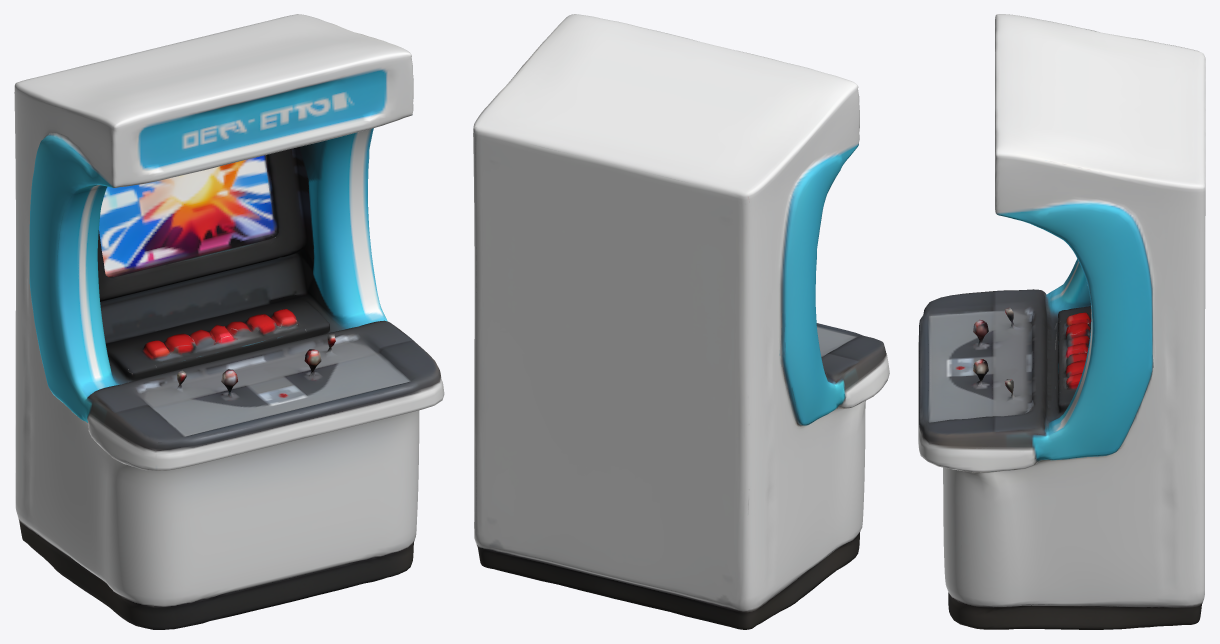
3 renders of one model, left to right at view 1: azimuth 30°, elevation 25°; view 2: azimuth 150°, elevation 25°; view 3: azimuth 270°, elevation 25°, orthographic. The views are drawn at different scales.
Visible parts, largest first — view 1: maquina; view 2: maquina; view 3: maquina.
Part boxes in pixels (left/top/right/bottom): maquina: left=14, top=14, right=444, bottom=629; maquina: left=473, top=14, right=889, bottom=629; maquina: left=918, top=14, right=1205, bottom=629.
Bounding box in the file's own units: 1.23 × 1.85 × 0.994.
Materials: 1 (1 with a texture image).
